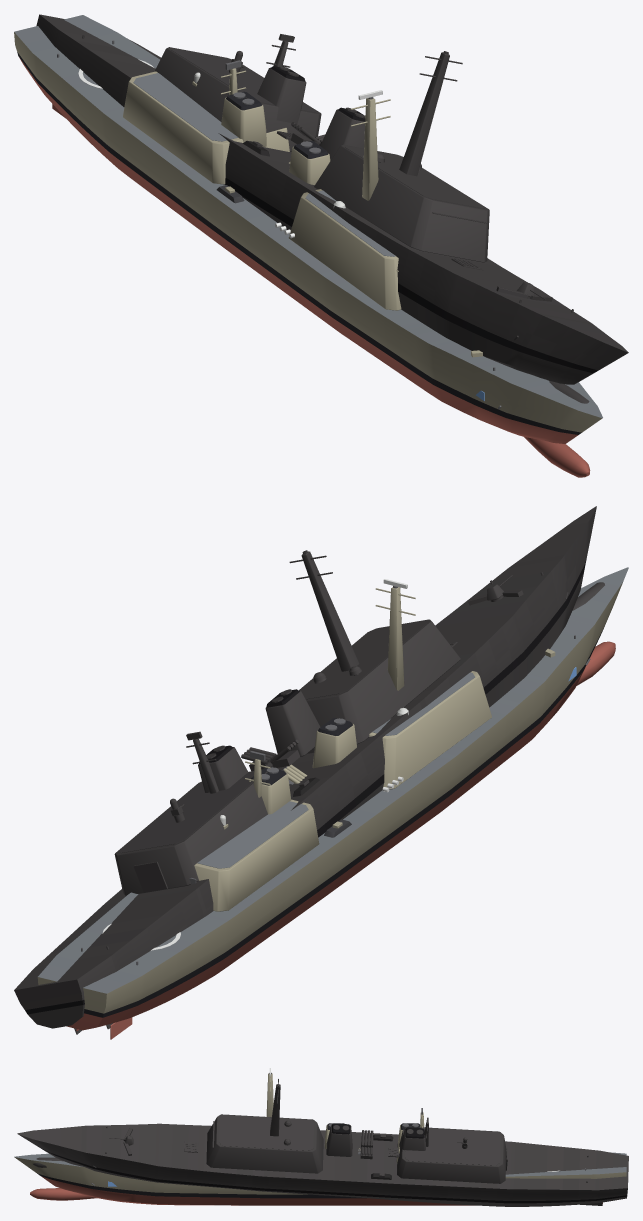
The model's file is destroyer__murasame_class.glb.
3 renders of one model, top to bottom at view 1: azimuth 30°, elevation 25°; view 2: azimuth 150°, elevation 25°; view 3: azimuth 270°, elevation 25°, orthographic. The views are drawn at different scales.
Visible parts, largest first — view 1: Hull_Mesh, Wreck; view 2: Wreck, Hull_Mesh; view 3: Wreck, Hull_Mesh.
Boxes of the visible parts, <box> form: Hull_Mesh: <box>14,15,602,477</box>; Wreck: <box>36,14,628,403</box>; Wreck: <box>14,506,604,1034</box>; Hull_Mesh: <box>37,567,628,1039</box>; Wreck: <box>17,1079,628,1206</box>; Hull_Mesh: <box>14,1073,626,1205</box>.
Size of what is drawn, in the model's own units: 24.88 by 39.49 by 158.
